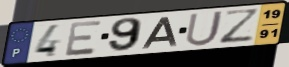4: (31, 23, 62, 59)
9: (108, 17, 147, 54)
A: (140, 16, 180, 50)
E: (64, 19, 105, 58)
U: (183, 9, 226, 48)
Z: (218, 8, 263, 46)
